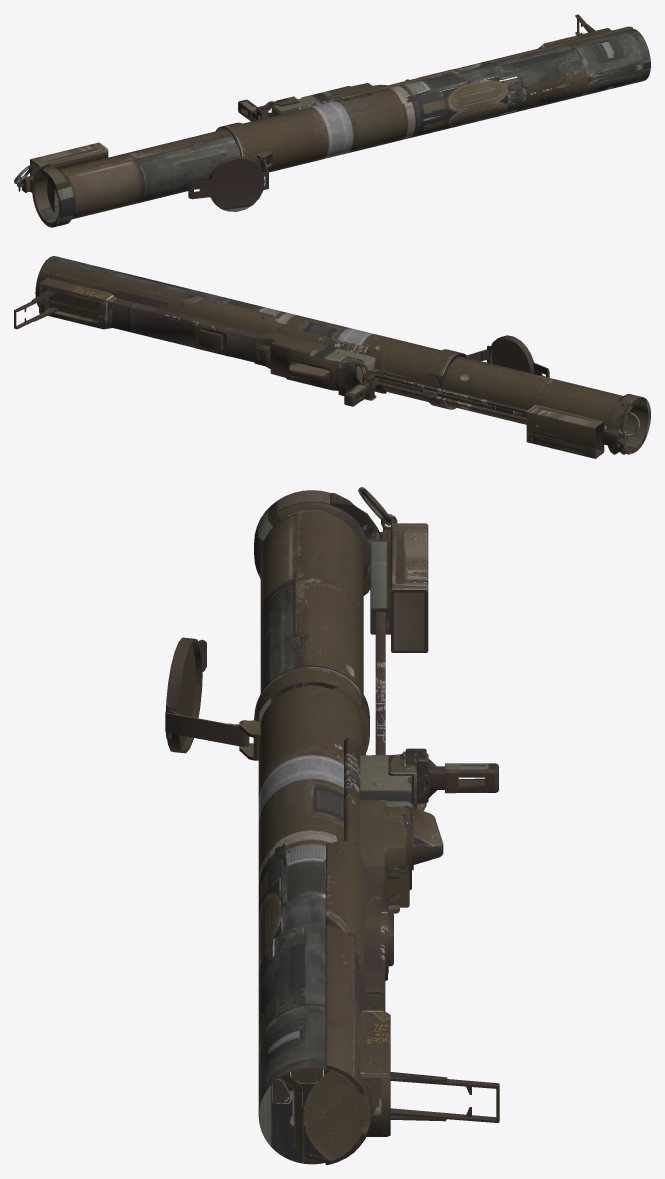
File: t5_weapon_law_viewmodel.glb
The picture shows the model from 3 angles, top to bottom: view 1: azimuth 30°, elevation 25°; view 2: azimuth 150°, elevation 25°; view 3: azimuth 270°, elevation 25°; orthographic projection. The views are drawn at different scales.
Parts seen in each view (by area): view 1: t5_weapon_law_viewmodel; view 2: t5_weapon_law_viewmodel; view 3: t5_weapon_law_viewmodel.
Boxes of the visible parts, x1,y1,x2,y2 form: t5_weapon_law_viewmodel: (14,14,650,227); t5_weapon_law_viewmodel: (14,256,650,458); t5_weapon_law_viewmodel: (165,487,499,1164).
Size of the model in its own units: 0.8065 by 0.0669 by 0.1933.
1 material, 1 textured.
